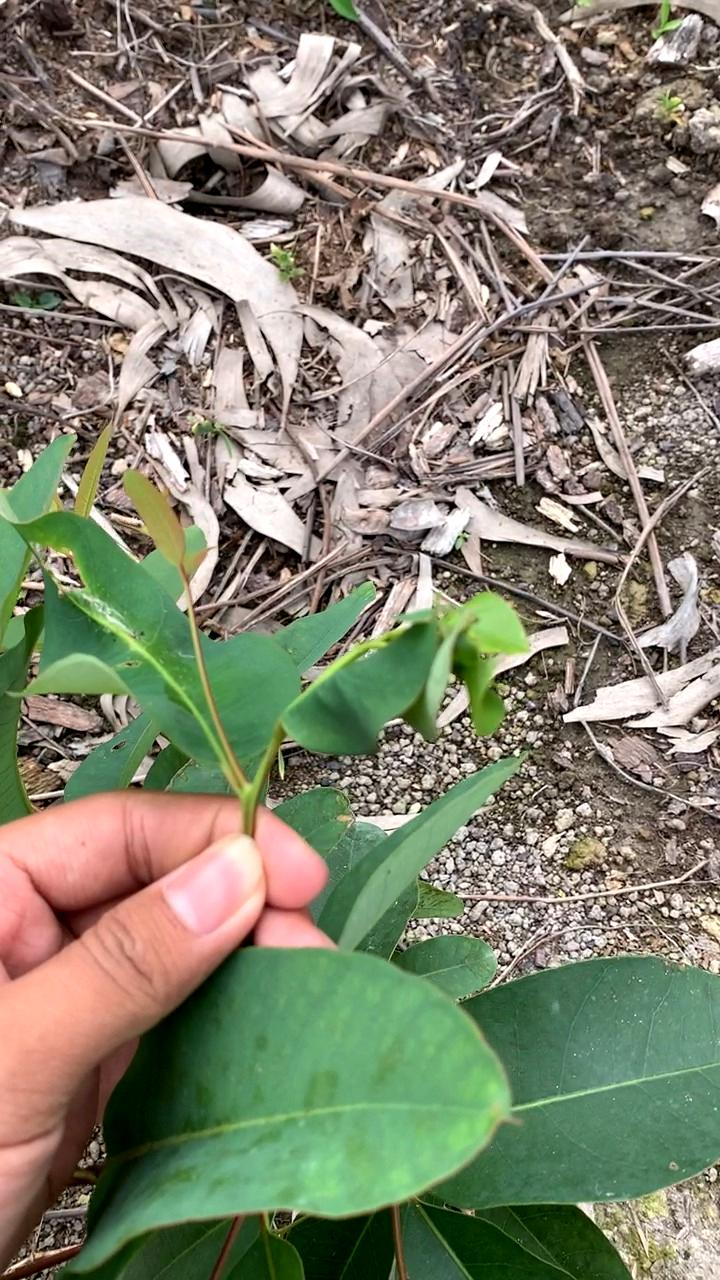Leaf Roller - Leaf: (277, 581, 540, 798)
